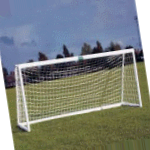goals: (13, 47, 144, 135)
